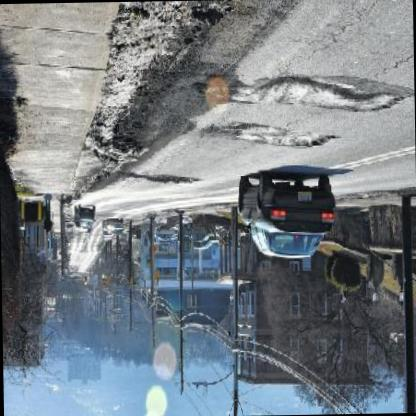pothole: (256, 75, 412, 118), (232, 120, 339, 150), (142, 174, 202, 186)
